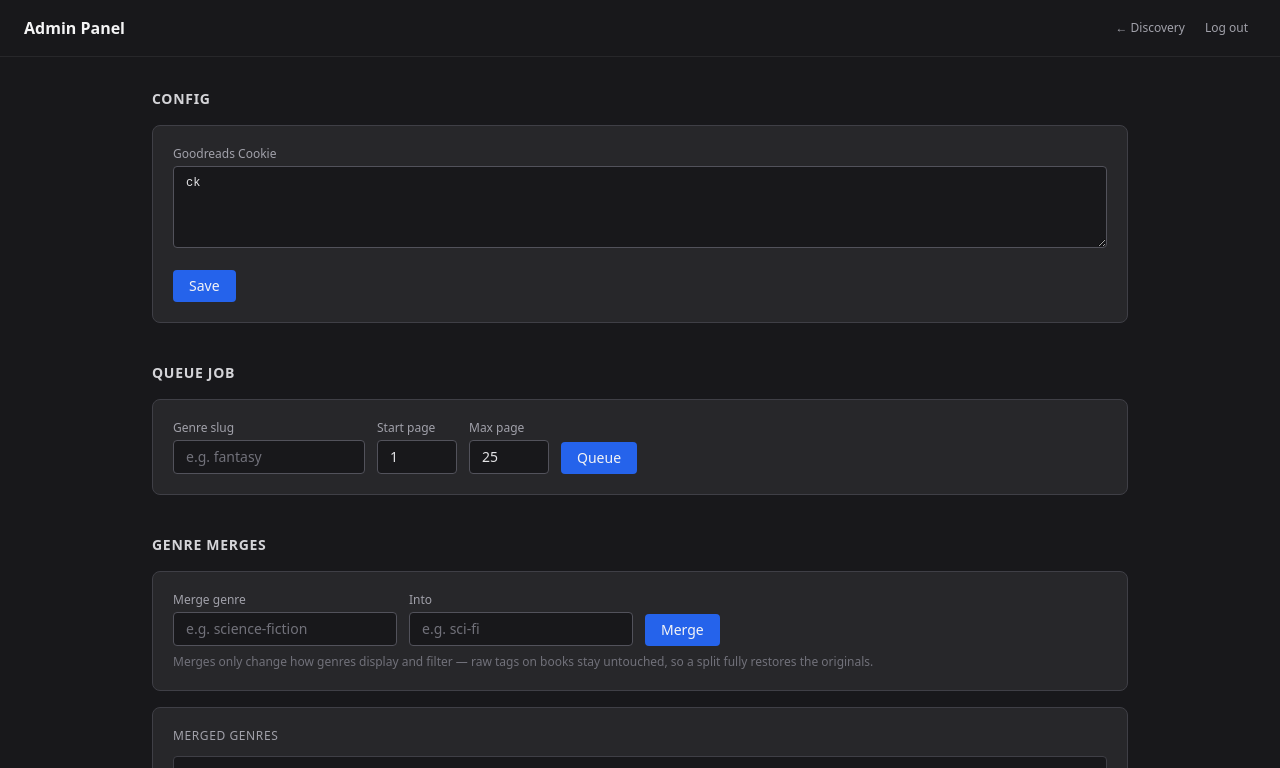
Genre Merges — merge action › surfaces the server error, e.g. the chain-prevention 409
This screenshot has width=1280, height=768.
Type "space-opera" into the field with placeholder "e.g. science-fiction".
click(285, 629); type("space-opera")  # box [173,612,397,646]
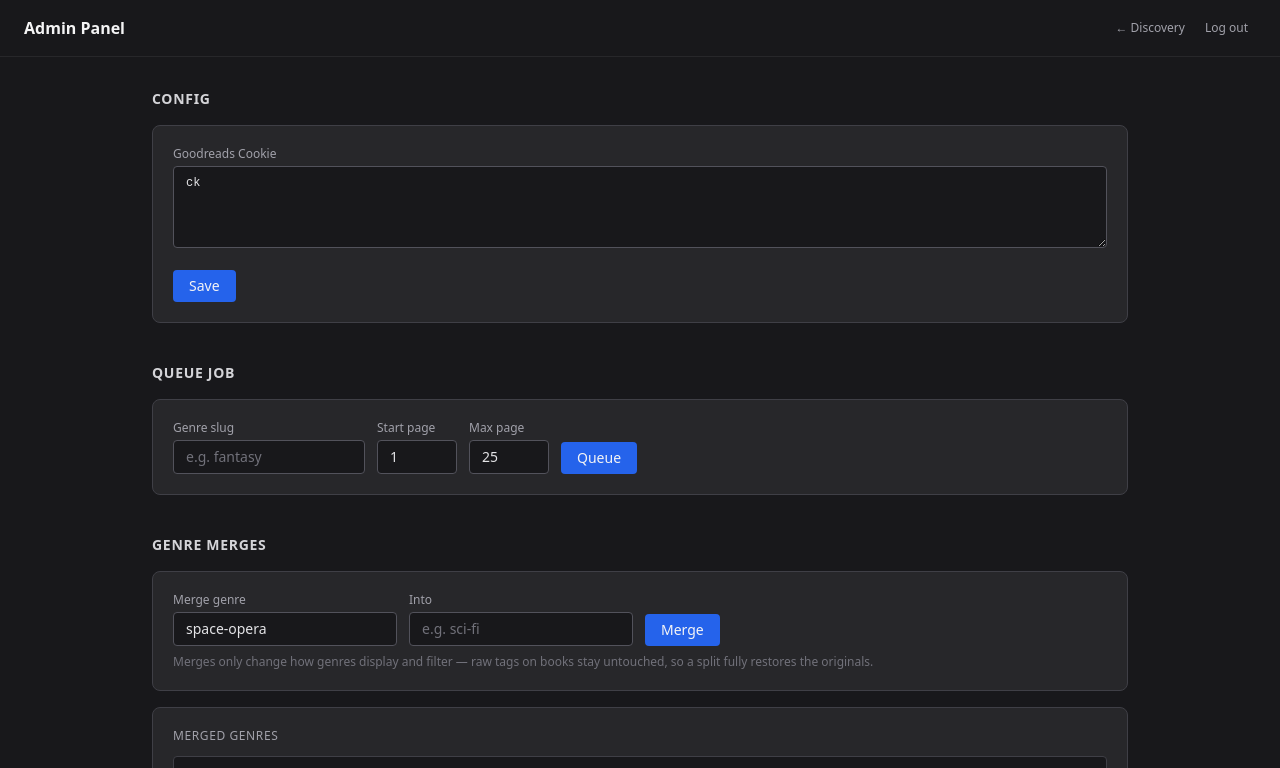
Type "scifi" into the field with placeholder "e.g. sci-fi".
click(521, 629); type("scifi")  # box [409,612,633,646]
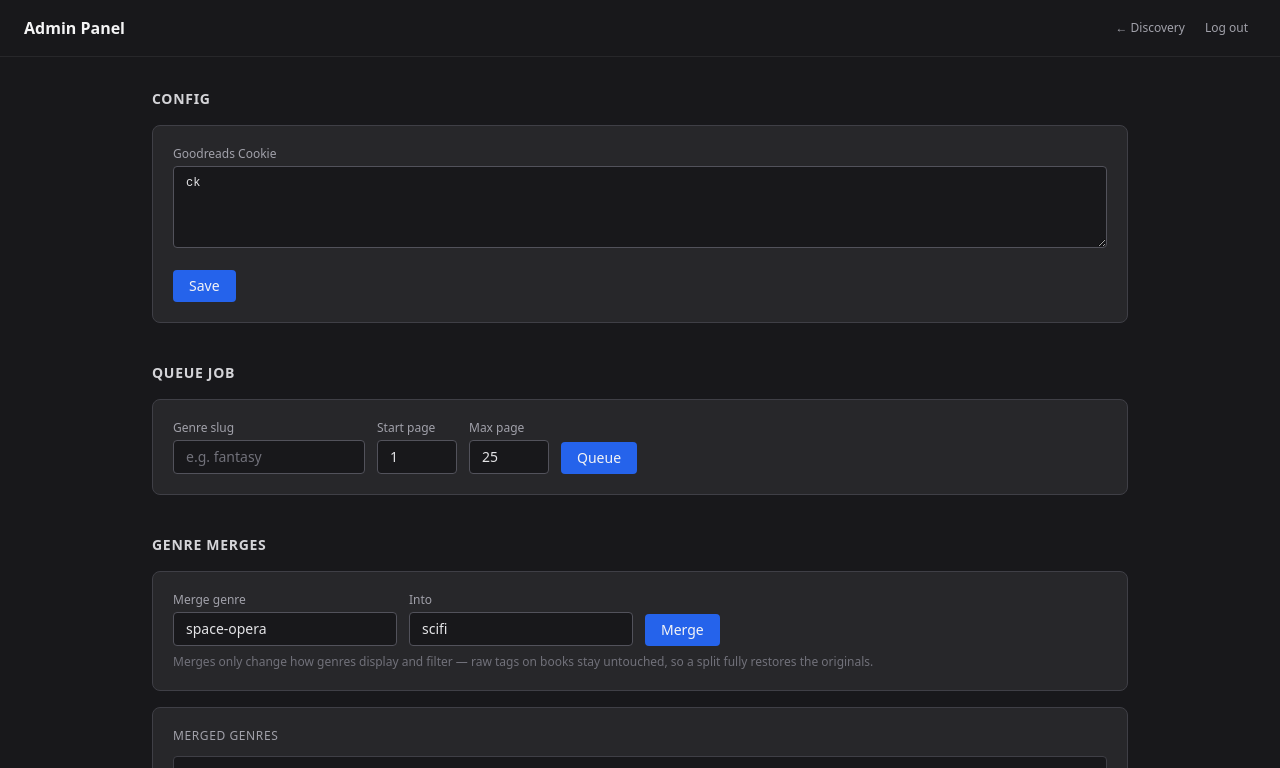
Click the button "Merge".
click(682, 630)  # box [645,614,720,646]
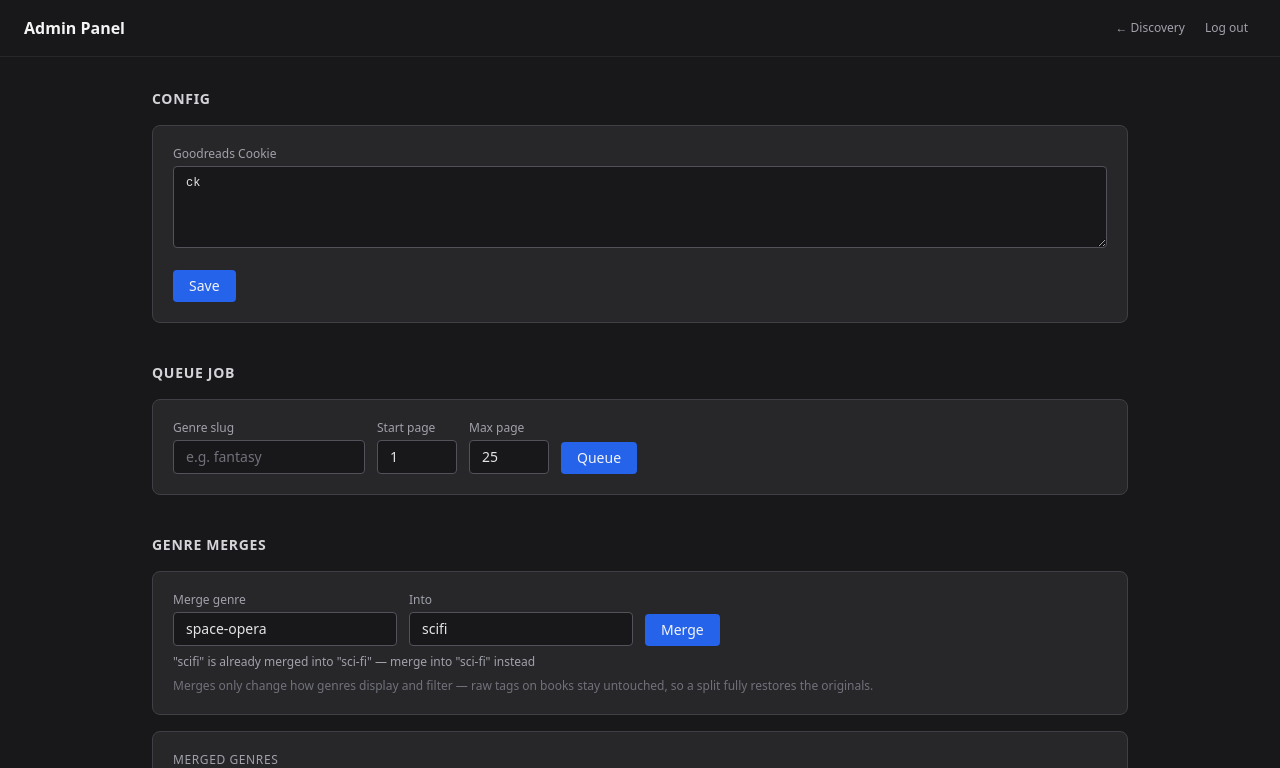
expect the text "\"scifi\" is already merged into \"sci-fi\" — merge into \"sci-fi\" instead" is shown: met, box [173,653,535,670]
